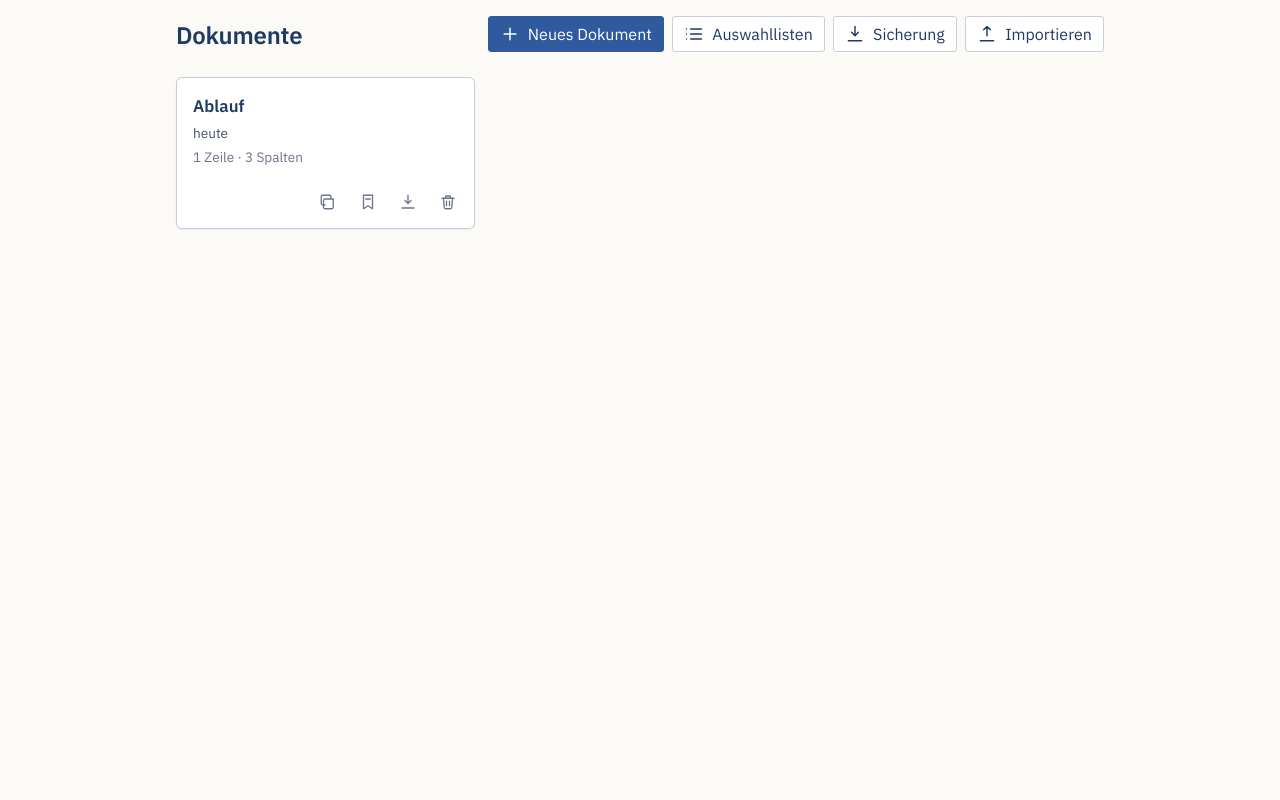
templates › deletes a template from its card, and the section goes with the last one
Click the button named "Als Vorlage speichern": (368, 202) 350,184 -> 386,220
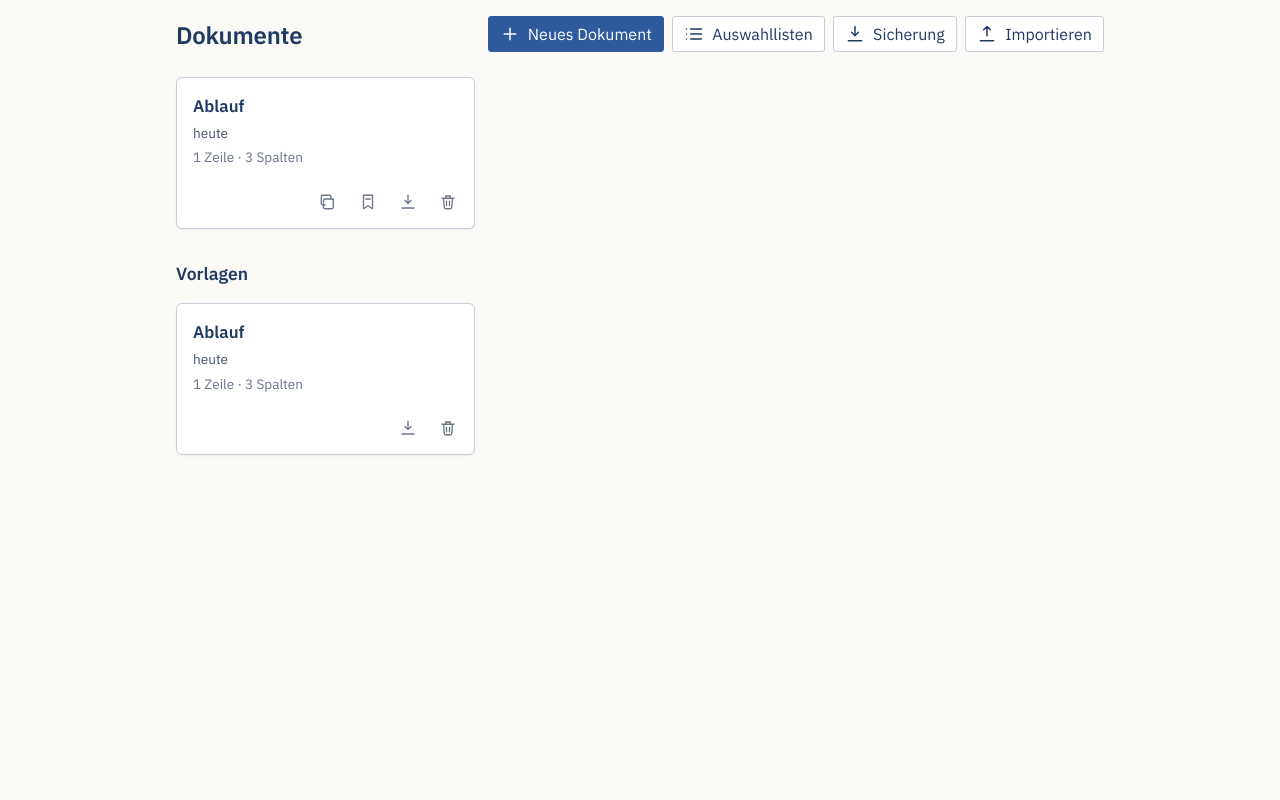
Click the button "Ablauf heute 1 Zeile · 3 Spalten" below "Vorlagen": (219, 332) 177,304 -> 474,410
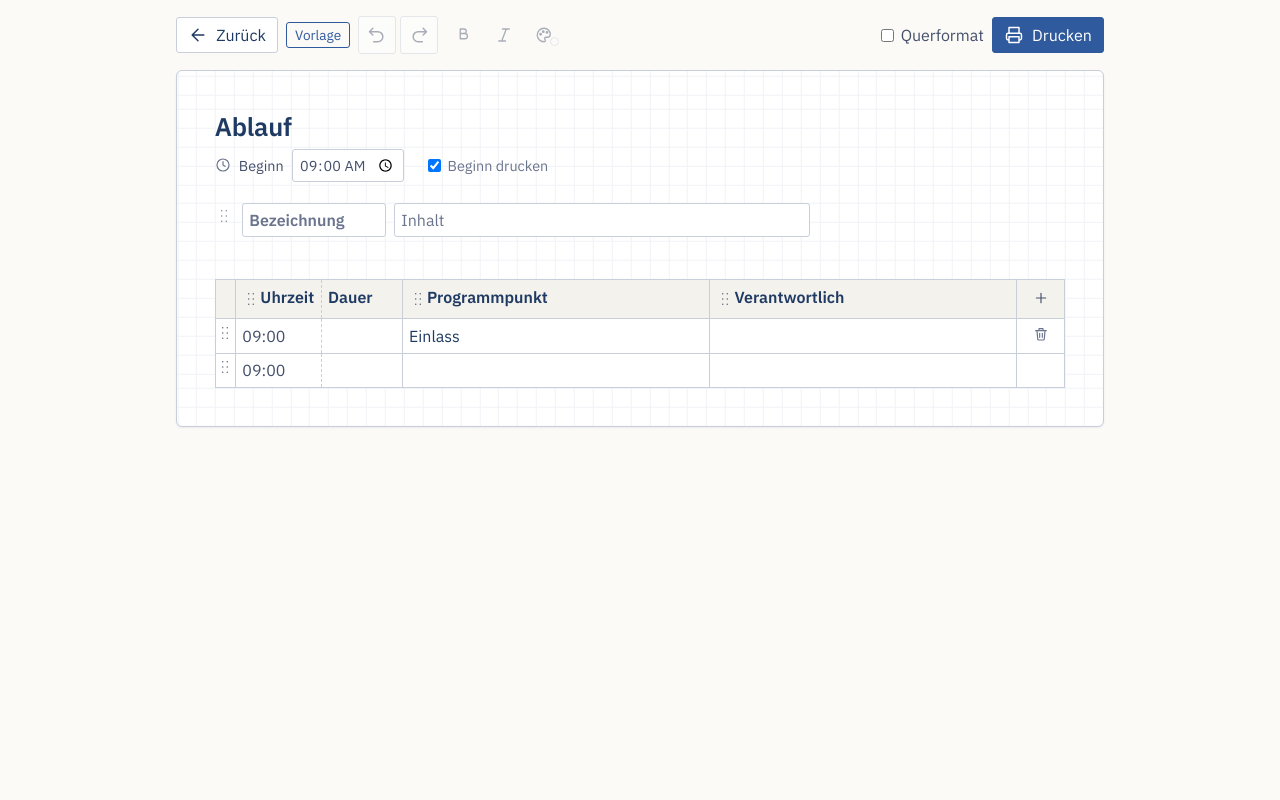
Click the button "Zurück": (227, 35) 176,17 -> 278,53
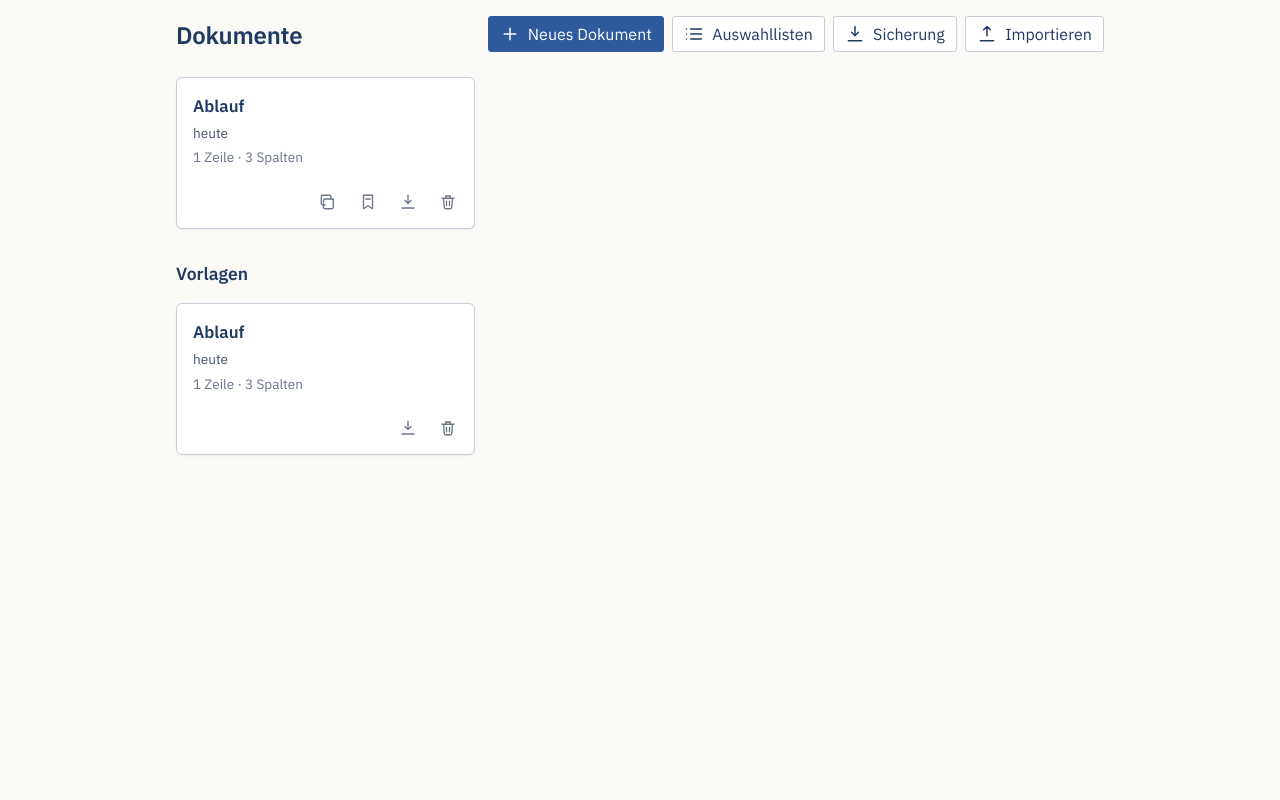
Click the button named "Vorlage löschen": (448, 428) 430,410 -> 466,446
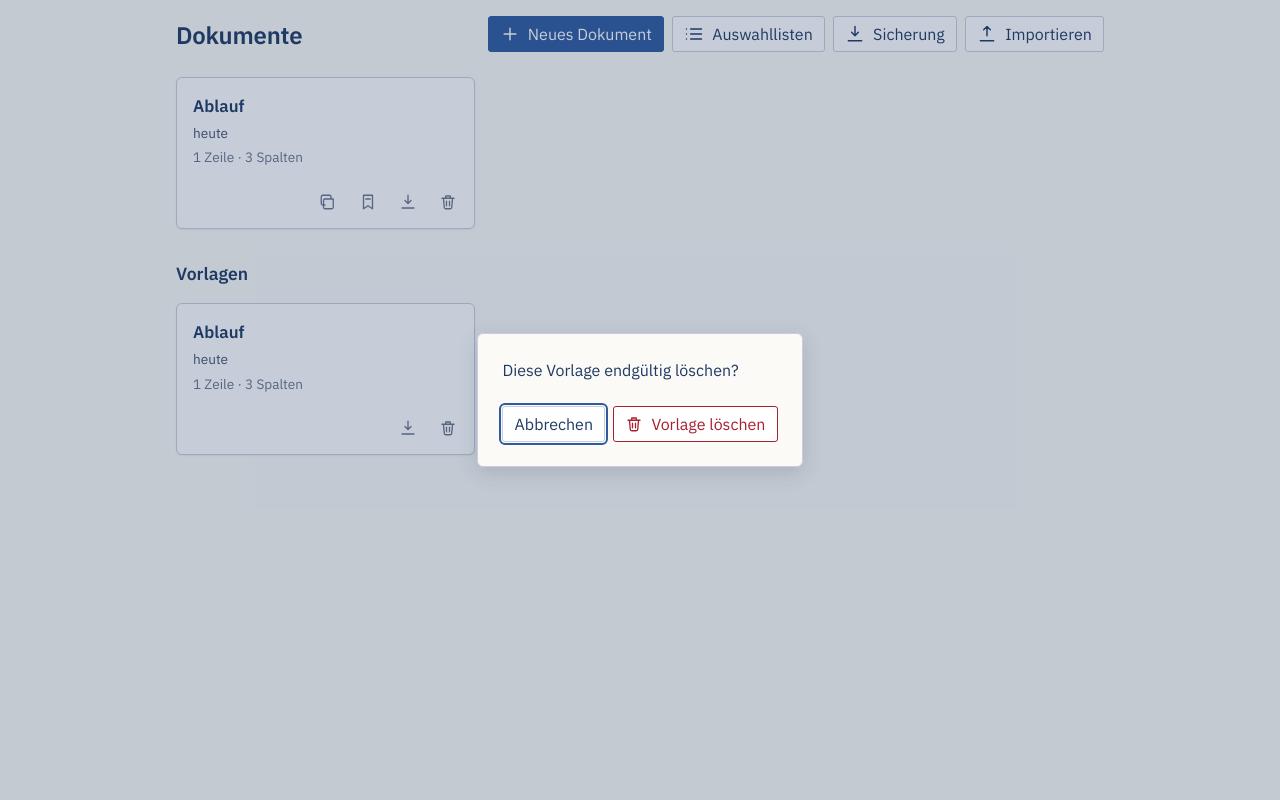
Click the button "Vorlage löschen": (695, 424) 613,406 -> 778,442
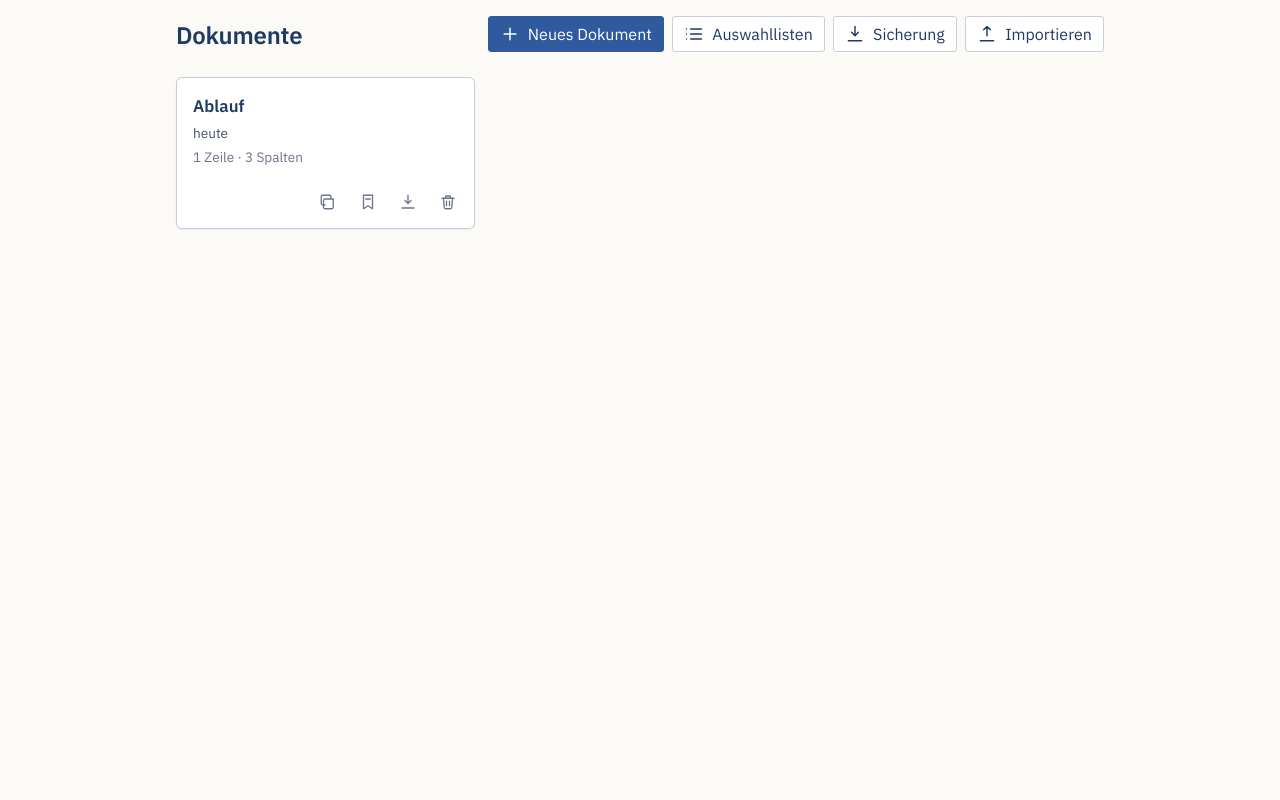
Expected: the heading "Vorlagen" is gone
